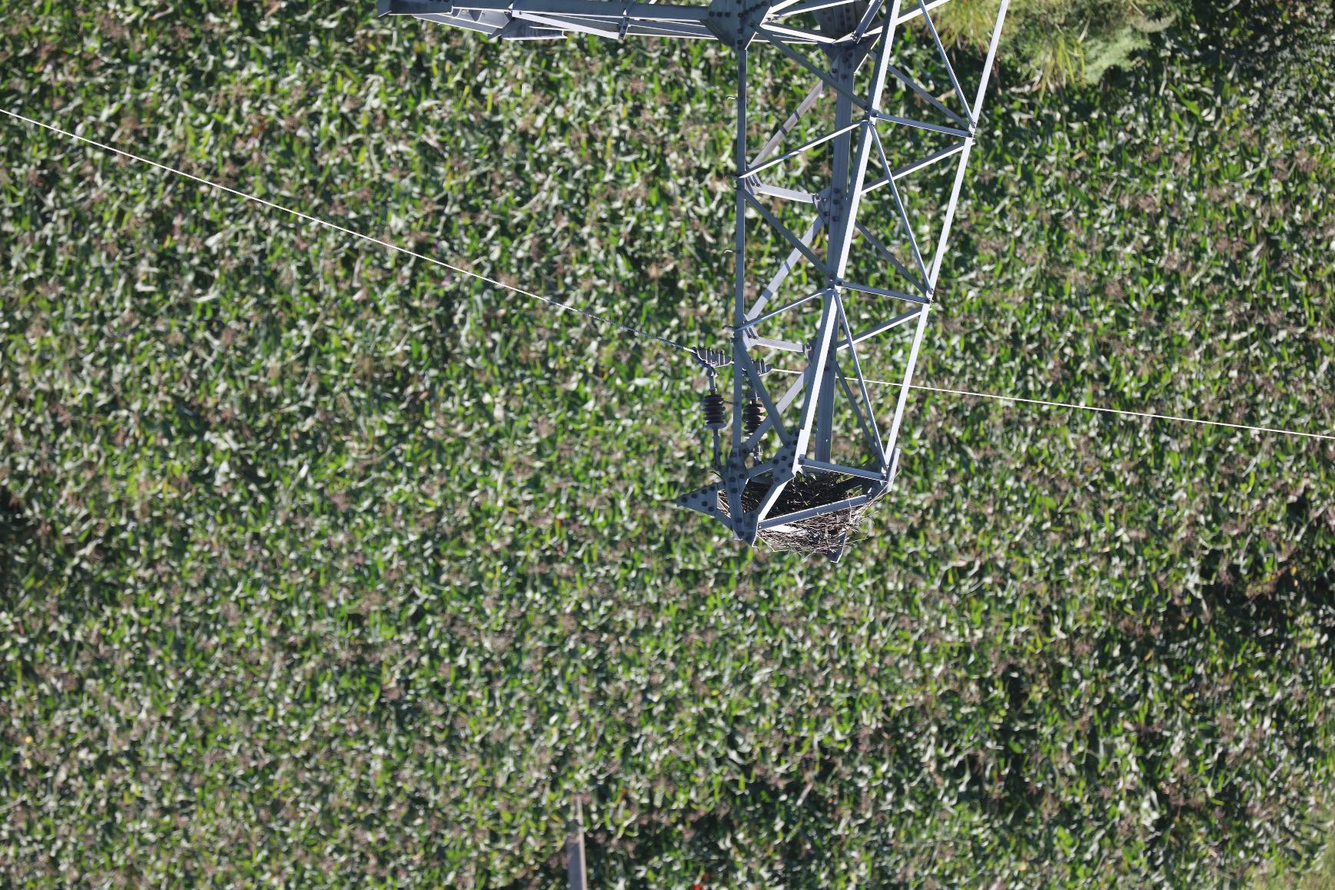nest: (742, 472, 868, 556)
